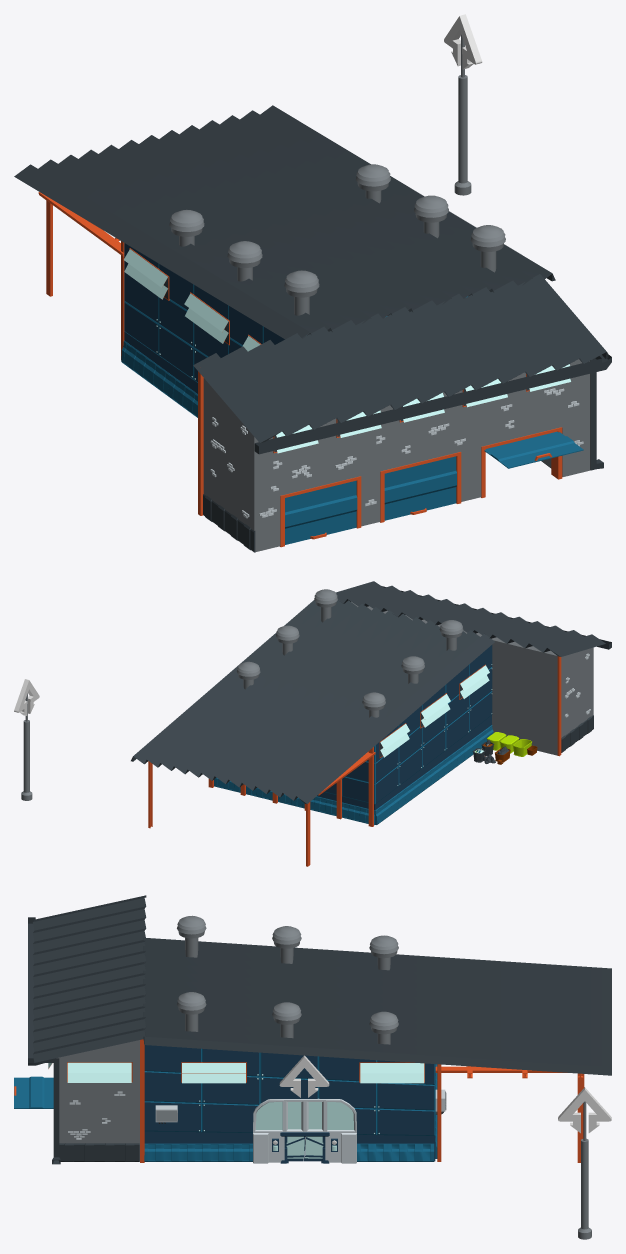
Rendered from Central_Fuera.fbx.
3 views of the same model, one above another, from view 1: azimuth 30°, elevation 25°; view 2: azimuth 150°, elevation 25°; view 3: azimuth 270°, elevation 25° (orthographic). The views are drawn at different scales.
Visible parts, largest first — view 1: Plane.004, Plane.005, Cube.075, Plane.001, Cube.060, Plane.010, Plane.006, Plane.011, Cube.279, Cube.091, Cylinder.025, Cube.276 (+14 smaller); view 2: Plane.004, Cube.075, Plane.001, Plane.005, Cube.279, Cube.275, Cube.027, Cylinder.244, Cylinder.025, Cube.028, Cube.276, Cube.277 (+10 smaller); view 3: Plane.004, Plane.001, Plane.005, Cube.075, Cube.024, Cube.267, Cube.060, Cube.077, Cube.268, Cube.095, Cube.096, Cube.092 (+15 smaller).
Boxes of the visible parts, bbox=[...] form: Plane.004: bbox=[14, 105, 555, 339]; Plane.005: bbox=[193, 274, 608, 442]; Cube.075: bbox=[203, 359, 590, 552]; Plane.001: bbox=[124, 243, 467, 393]; Cube.060: bbox=[254, 354, 611, 470]; Plane.010: bbox=[384, 456, 456, 520]; Plane.006: bbox=[285, 480, 357, 544]; Plane.011: bbox=[484, 431, 583, 468]; Cube.279: bbox=[121, 340, 197, 417]; Cube.091: bbox=[273, 364, 570, 453]; Cylinder.025: bbox=[454, 34, 471, 195]; Cube.276: bbox=[124, 248, 169, 300]; Plane.004: bbox=[131, 599, 494, 803]; Cube.075: bbox=[351, 601, 593, 755]; Plane.001: bbox=[317, 645, 492, 810]; Plane.005: bbox=[336, 581, 605, 656]; Cube.279: bbox=[375, 725, 493, 824]; Cube.275: bbox=[214, 777, 374, 825]; Cube.027: bbox=[208, 747, 373, 826]; Cylinder.244: bbox=[486, 732, 531, 756]; Cylinder.025: bbox=[21, 693, 32, 800]; Cube.028: bbox=[148, 761, 310, 866]; Cube.276: bbox=[379, 723, 409, 758]; Cube.277: bbox=[420, 693, 450, 728]; Plane.004: bbox=[143, 937, 611, 1075]; Plane.001: bbox=[144, 1045, 435, 1161]; Plane.005: bbox=[33, 895, 146, 1062]; Cube.075: bbox=[56, 1040, 139, 1161]; Cube.024: bbox=[253, 1098, 356, 1163]; Cube.267: bbox=[144, 1143, 252, 1161]; Cube.060: bbox=[28, 917, 60, 1164]; Cube.077: bbox=[59, 1143, 139, 1161]; Cube.268: bbox=[357, 1143, 434, 1161]; Cube.095: bbox=[181, 1062, 246, 1083]; Cube.096: bbox=[359, 1062, 424, 1083]; Cube.092: bbox=[67, 1062, 132, 1082].
Size of the model in its own units: 97.44 by 32.31 by 111.
